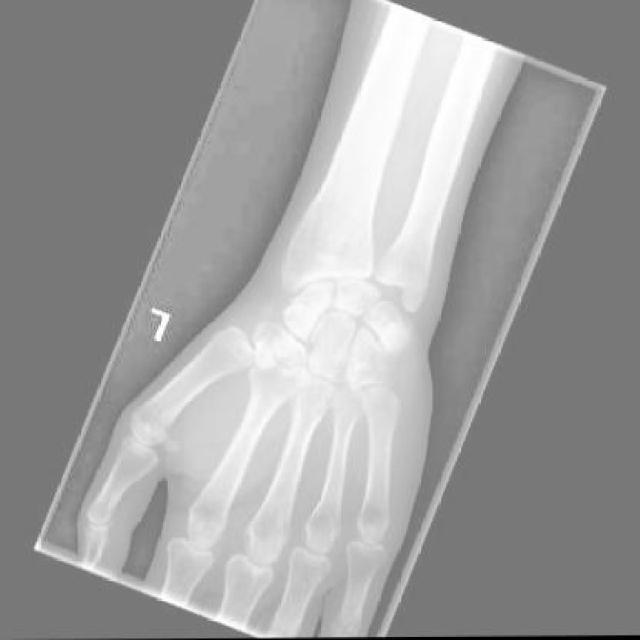bone: (280, 292, 333, 339)
